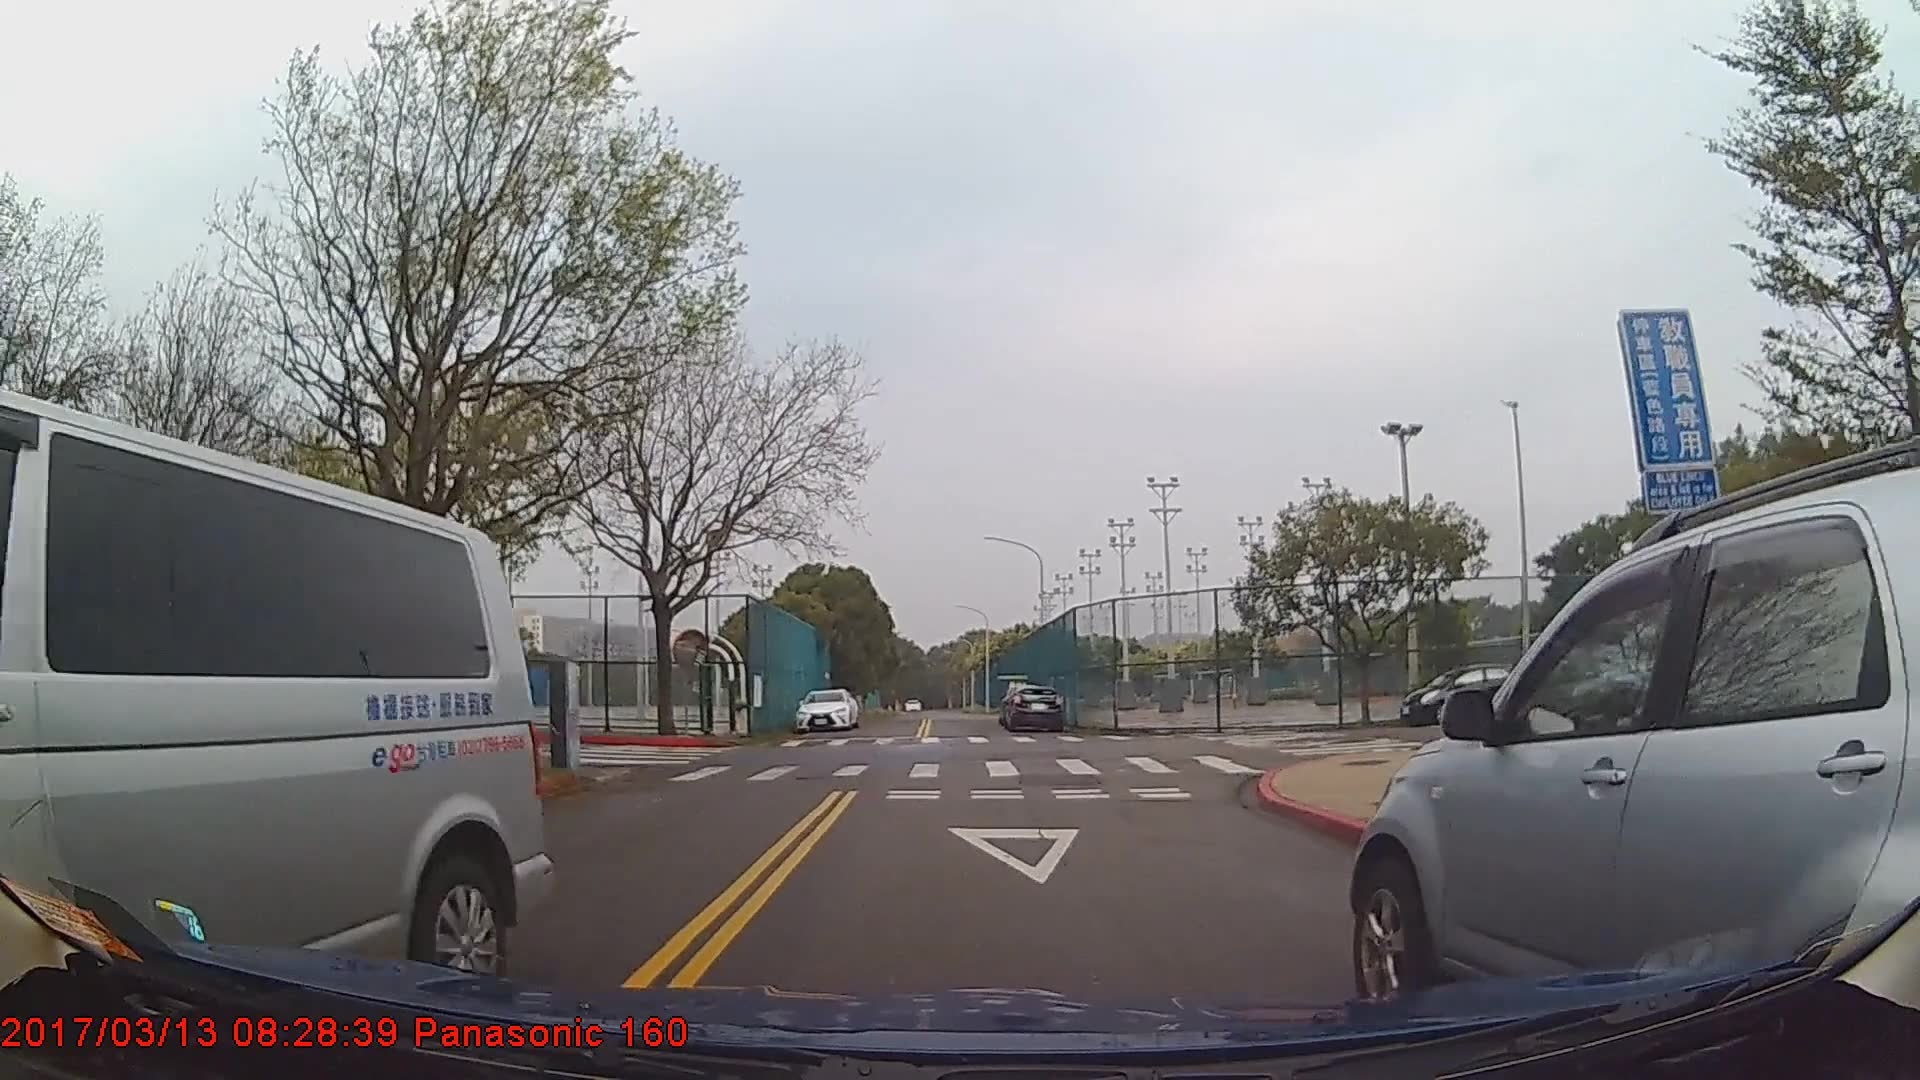vehicle: (0, 380, 553, 1021), (1348, 459, 1920, 1038), (1400, 662, 1527, 727), (1001, 682, 1063, 735), (794, 686, 858, 733)
